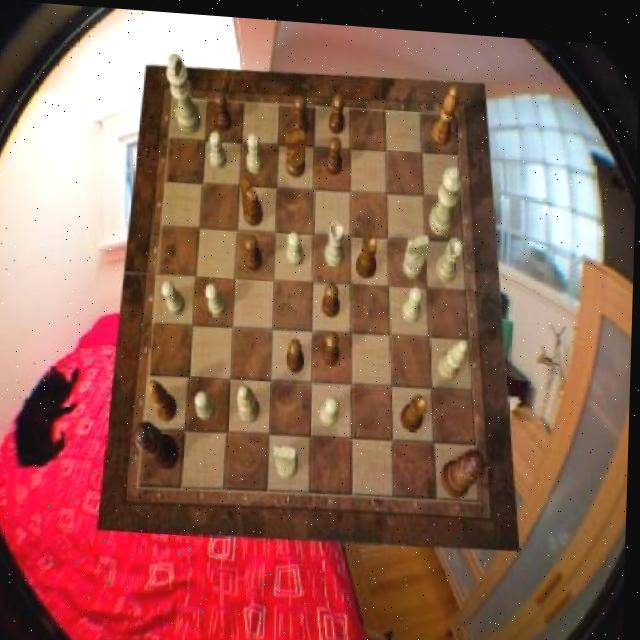bishop: (433, 78, 459, 139), (149, 377, 180, 418)
black-bishop: (137, 418, 183, 467)
black-king: (240, 173, 265, 223), (285, 126, 307, 175)
black-knight: (214, 90, 234, 131), (293, 91, 311, 132), (327, 131, 345, 171), (246, 230, 265, 267), (330, 88, 346, 129), (287, 332, 305, 368), (324, 278, 342, 314), (323, 326, 341, 361)
black-pawn: (443, 440, 489, 494)
black-queen: (403, 387, 431, 426), (357, 229, 379, 274)
black-rook: (439, 331, 470, 375), (240, 381, 264, 420)
white-bishop: (165, 50, 203, 132)
white-king: (405, 228, 432, 274), (276, 440, 301, 475)
white-knight: (163, 277, 188, 313), (404, 279, 425, 317), (206, 280, 228, 315), (247, 130, 265, 171), (210, 128, 229, 166), (197, 387, 218, 418), (288, 226, 306, 262), (323, 392, 341, 420)
white-pawn: (429, 159, 464, 232)
white-queen: (437, 229, 463, 276), (325, 215, 346, 262)
